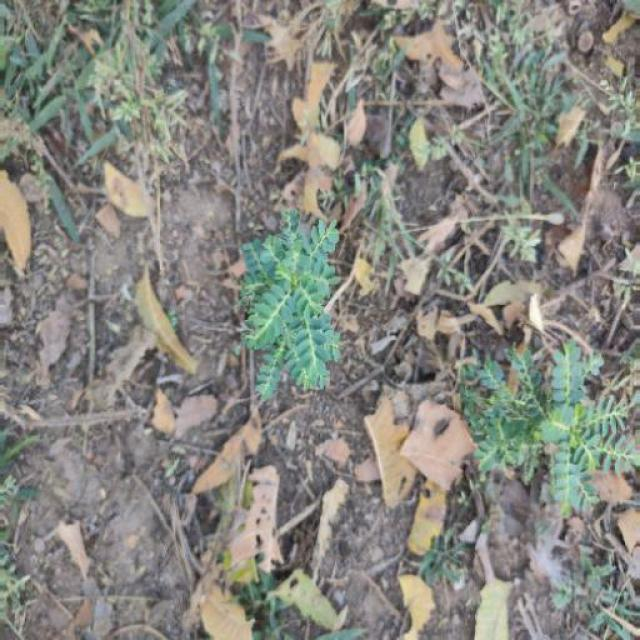weed: (216, 174, 375, 402), (452, 335, 632, 487)
